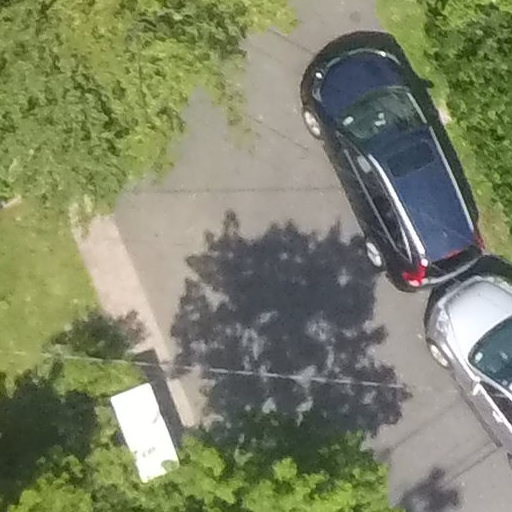car: (274, 20, 485, 297)
